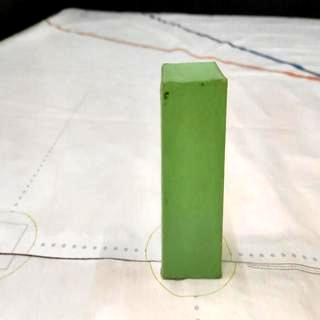greenbox: (160, 60, 228, 282)
